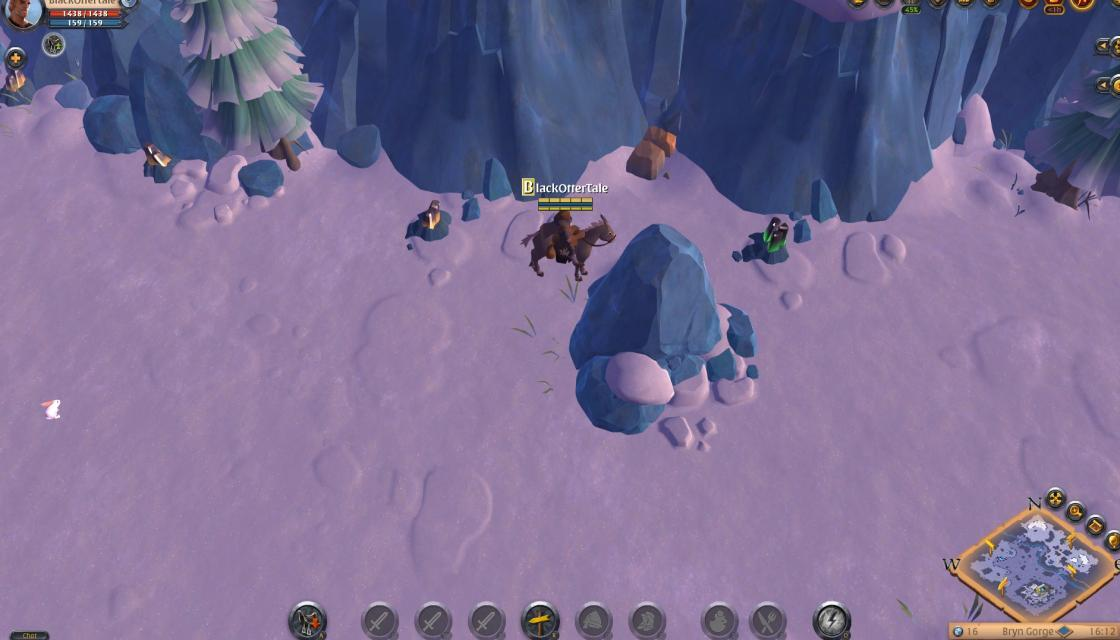copperore: (411, 193, 452, 242), (136, 136, 179, 182), (0, 66, 41, 112)
limestone: (624, 124, 679, 182)
tinore: (745, 214, 796, 266)
